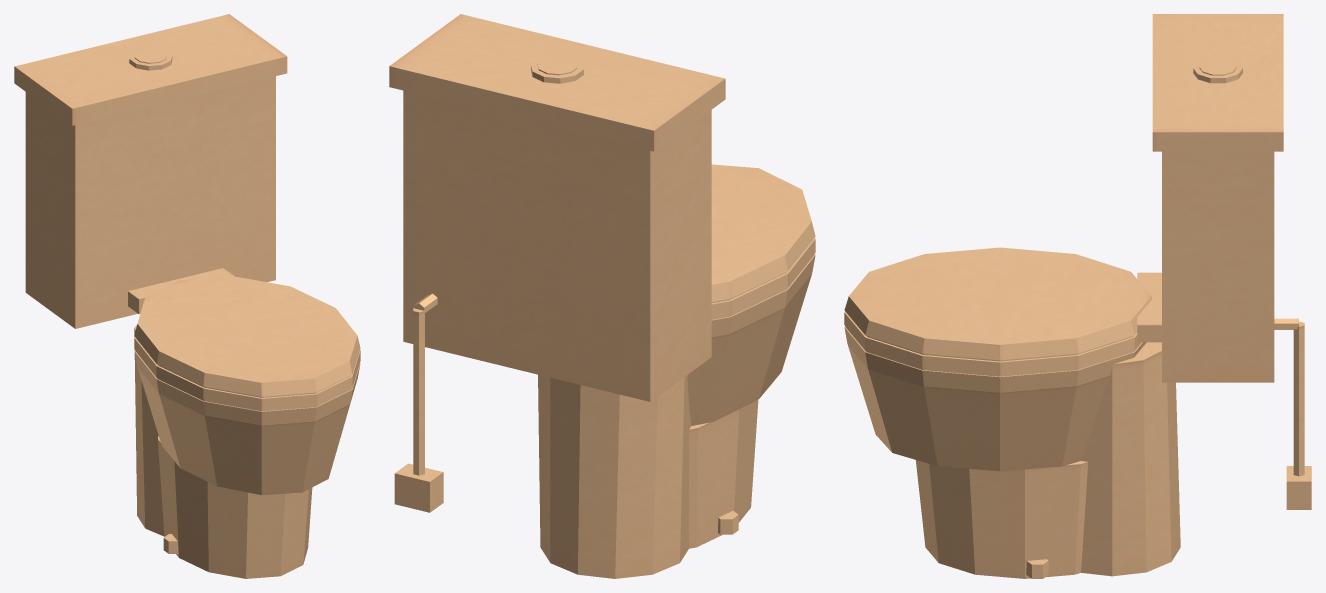
File: Toilet.fbx
3 renders of one model, left to right at view 1: azimuth 30°, elevation 25°; view 2: azimuth 150°, elevation 25°; view 3: azimuth 270°, elevation 25°, orthographic. The views are drawn at different scales.
Visible parts, largest first — view 1: Toilet; view 2: Toilet; view 3: Toilet.
Part boxes in pixels (bbox=[...]): Toilet: bbox=[14, 14, 360, 578]; Toilet: bbox=[389, 14, 815, 578]; Toilet: bbox=[844, 14, 1311, 578].
Bounding box in the file's own units: 0.45 × 0.851 × 0.75.
